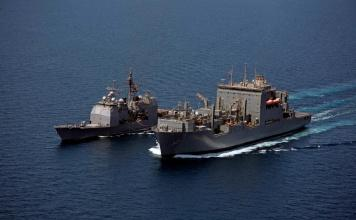warship: (149, 72, 310, 160), (53, 69, 169, 144)
